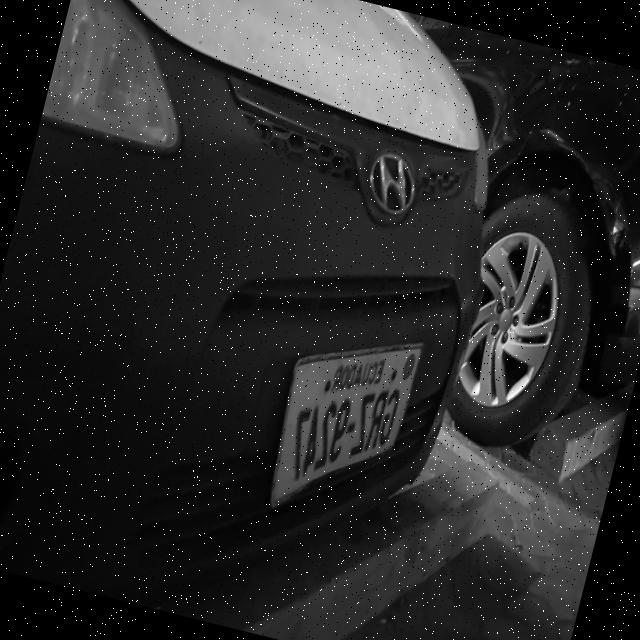Placa: (270, 344, 421, 506)
